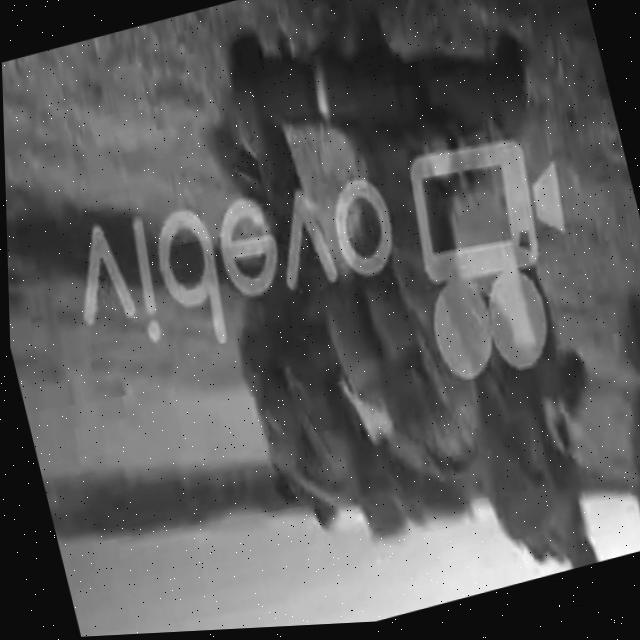rocket: (211, 0, 546, 206)
